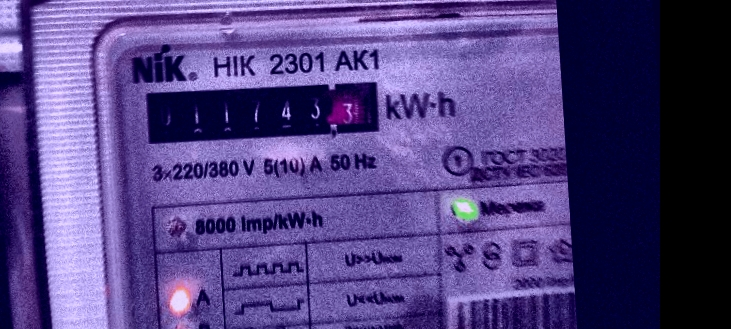0: (157, 100, 172, 129)
1: (218, 96, 231, 125), (189, 98, 200, 126)
3: (307, 93, 322, 121), (338, 100, 354, 126)
4: (277, 95, 292, 123)
7: (246, 94, 263, 123)
screen: (133, 67, 391, 157)
